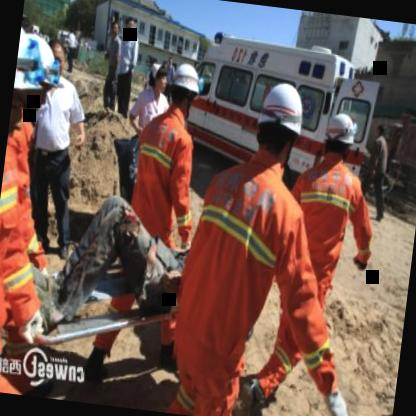helmet: (249, 76, 310, 174), (6, 19, 46, 142), (12, 34, 62, 118), (320, 110, 358, 170), (166, 60, 203, 118)
